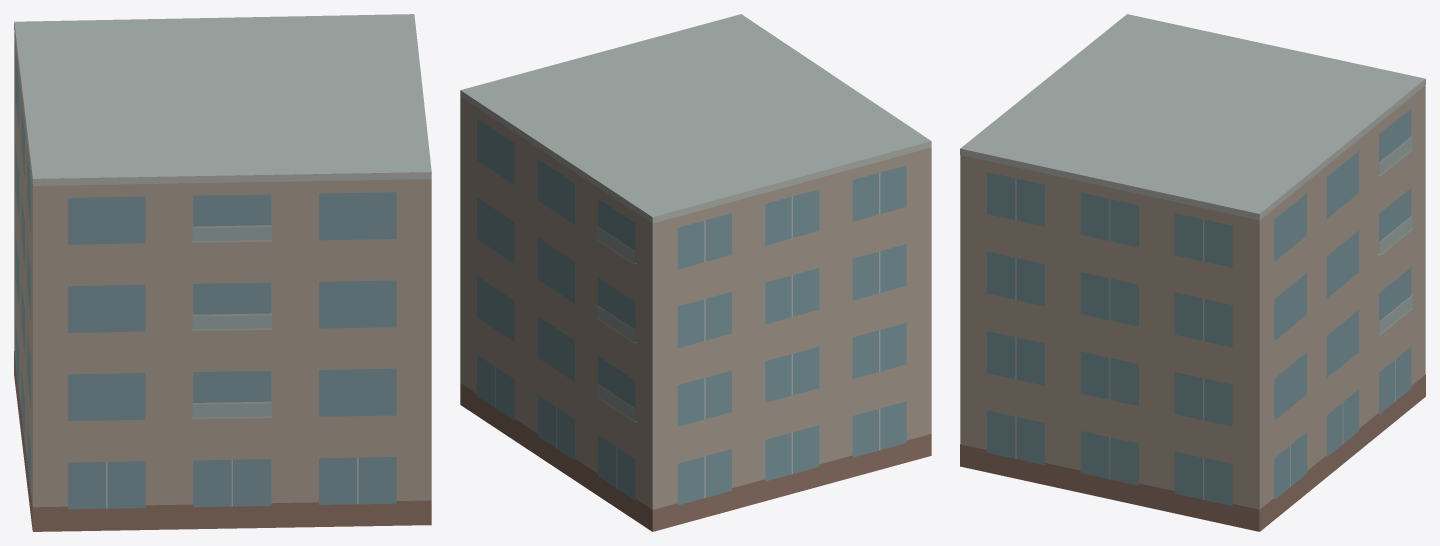
File: survey-upis-32888852.glb
3 renders of one model, left to right at view 1: azimuth 30°, elevation 25°; view 2: azimuth 150°, elevation 25°; view 3: azimuth 270°, elevation 25°, orthographic. The views are drawn at different scales.
Visible parts, largest first — view 1: survey-upis-32888852.tmp; view 2: survey-upis-32888852.tmp; view 3: survey-upis-32888852.tmp.
Boxes of the visible parts, left/top/right/bottom form: survey-upis-32888852.tmp: left=14, top=14, right=431, bottom=531; survey-upis-32888852.tmp: left=460, top=14, right=931, bottom=531; survey-upis-32888852.tmp: left=960, top=14, right=1425, bottom=531.
Size of the model in its own units: 16.47 by 12.2 by 16.21.
